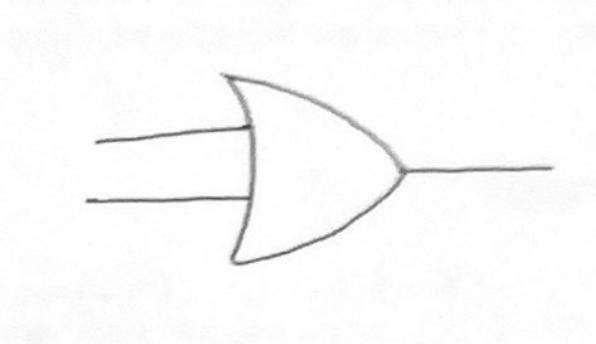OR: (209, 49, 414, 285)
